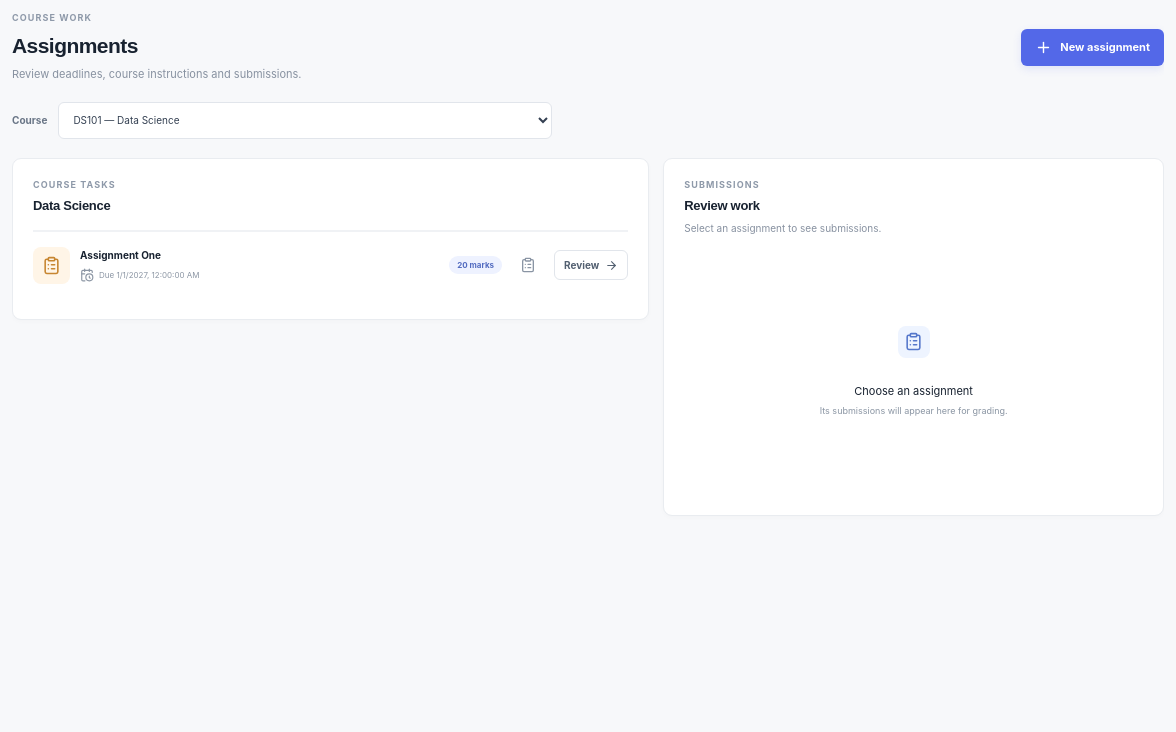
Scenario: assignment roster filters › searches student details and filters by submission status
This screenshot has width=1176, height=732.
Click the button "Review" at (591, 265), box x1=554 y1=250 x2=628 y2=280
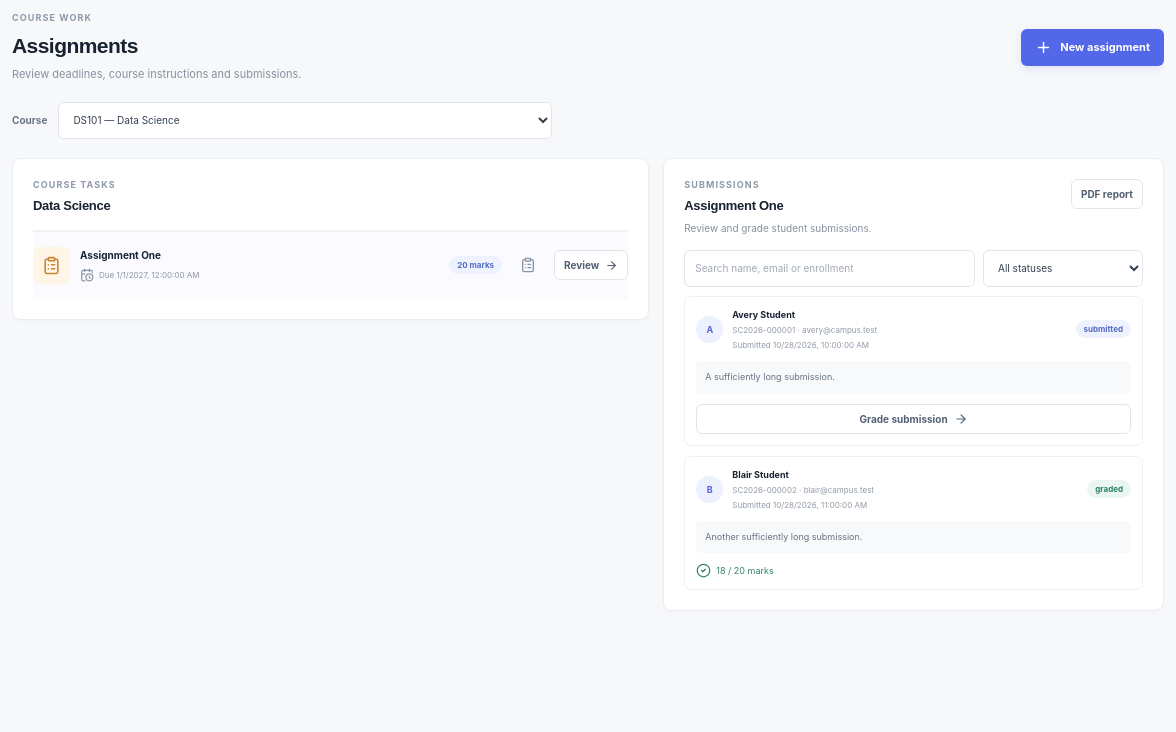
Expected: the text "Avery Student" is shown, x1=732 y1=309 x2=795 y2=320
Expected: the text "Blair Student" is shown, x1=732 y1=469 x2=789 y2=480
Type "blair@campus.test" into the search field named "Search students" at (830, 268), box x1=684 y1=250 x2=975 y2=287
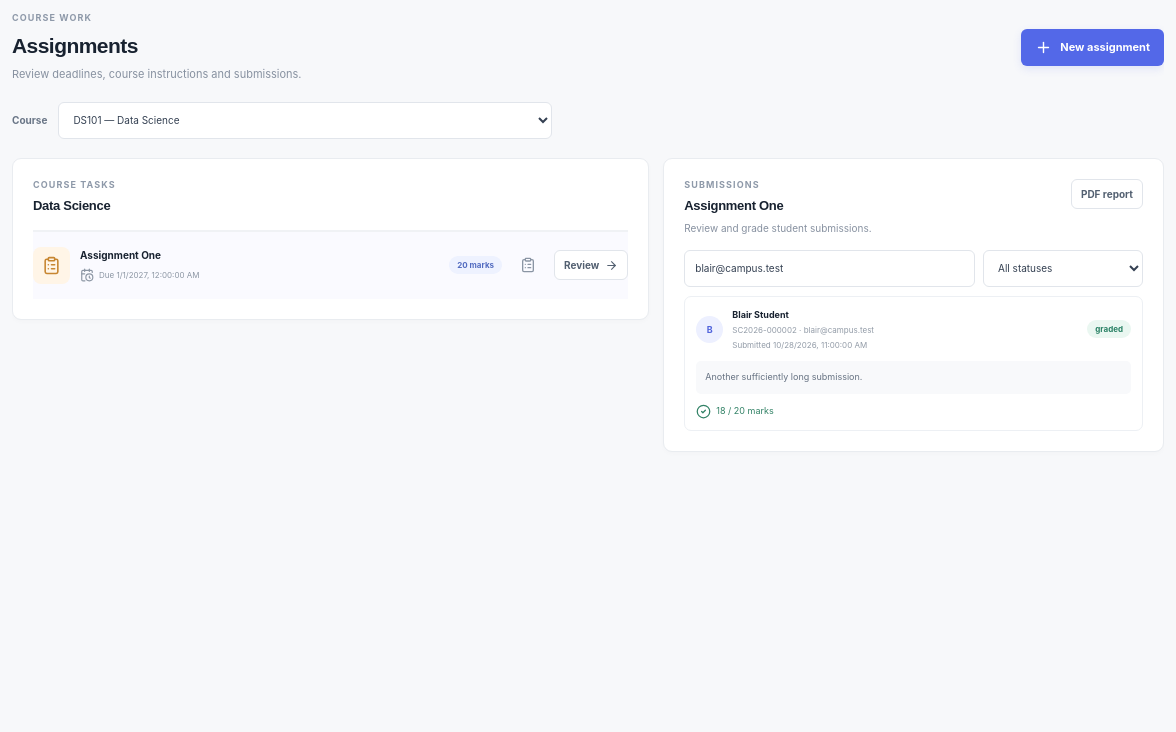
Expected: the text "Blair Student" is shown, x1=732 y1=309 x2=789 y2=320
Expected: the text "Avery Student" is gone
Clear the search field named "Search students" at (830, 268), box x1=684 y1=250 x2=975 y2=287
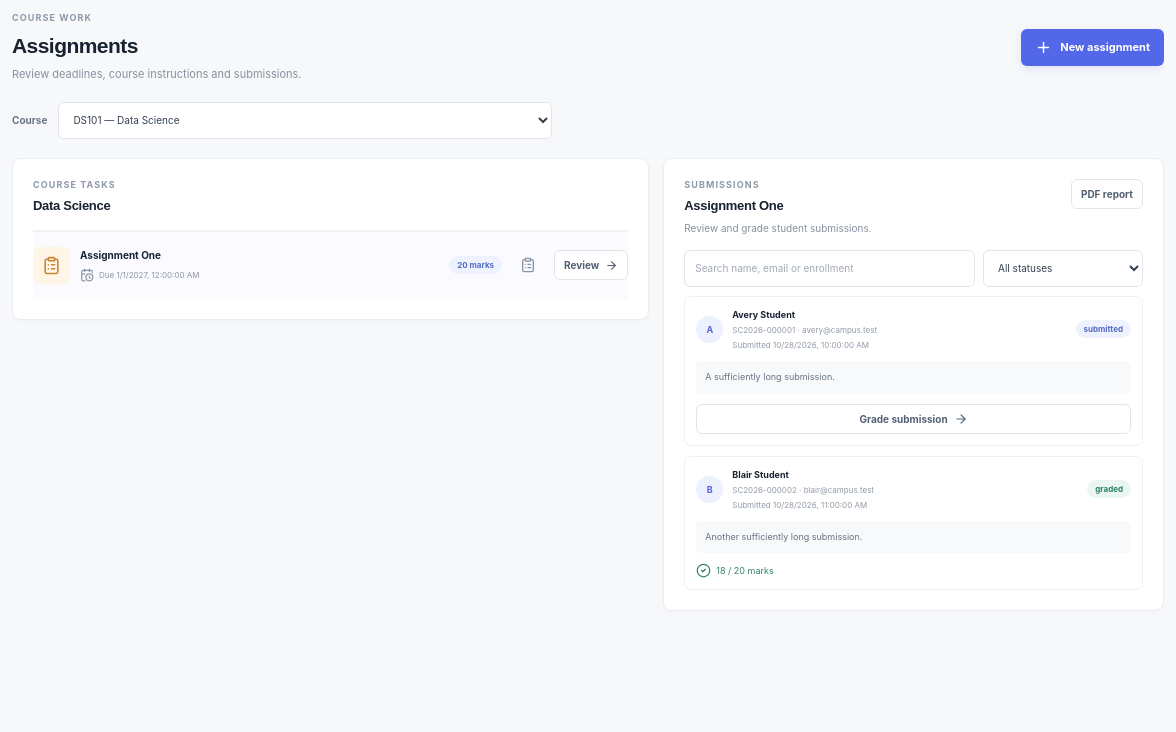
Select "Graded" in the dropdown named "Filter by submission status" at (1063, 268), box x1=983 y1=250 x2=1143 y2=287
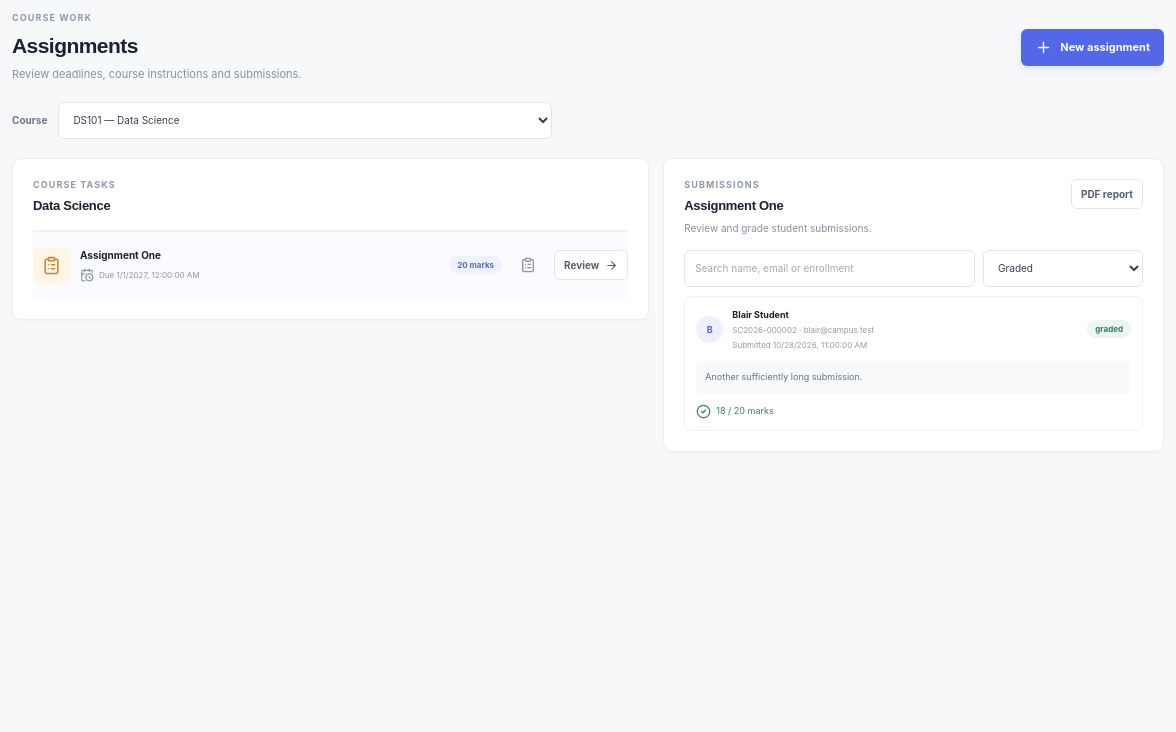
Expected: the text "Blair Student" is shown, x1=732 y1=309 x2=789 y2=320
Expected: the text "Avery Student" is gone
